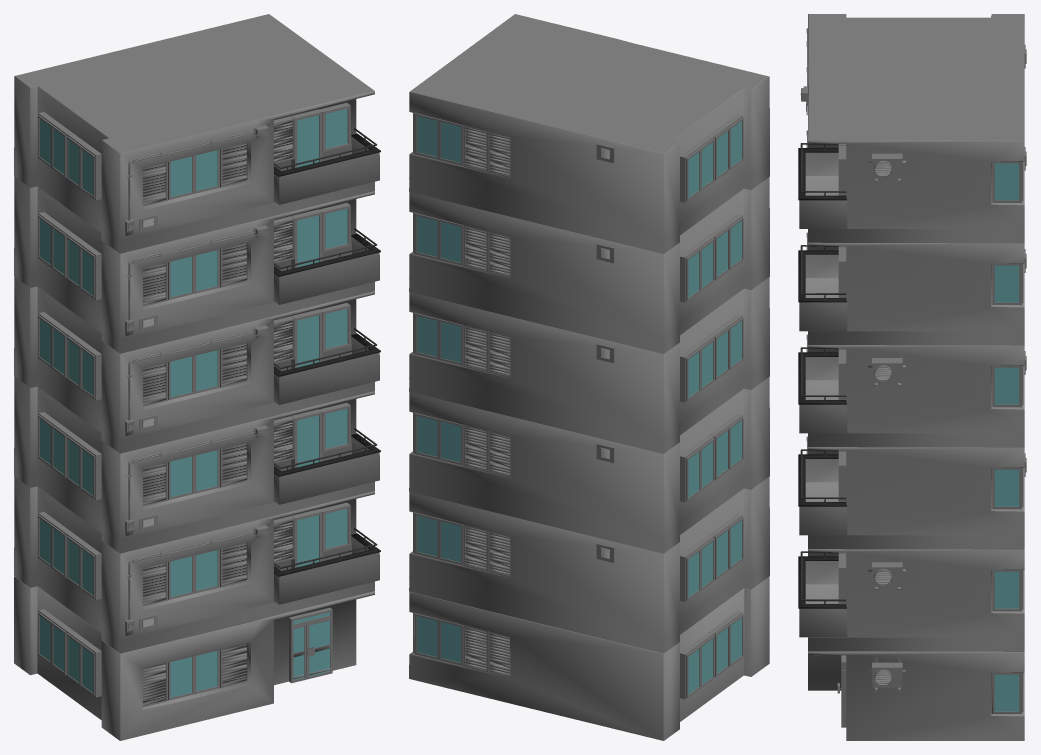
The model's file is apartmant_05.fbx.
3 views of the same model, side by side, from view 1: azimuth 30°, elevation 25°; view 2: azimuth 150°, elevation 25°; view 3: azimuth 270°, elevation 25° (orthographic). The views are drawn at different scales.
Visible parts, largest first — view 1: Box766.016; view 2: Box766.016; view 3: Box766.016.
Part boxes in pixels (x1,y1,x2,y2): Box766.016: (14, 14, 380, 740); Box766.016: (409, 14, 769, 740); Box766.016: (798, 14, 1026, 740).
Bounding box in the file's own units: 1107 × 2305 × 793.
